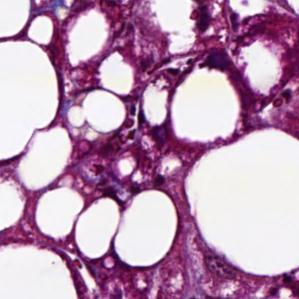inflammation: (92, 128, 161, 184)
